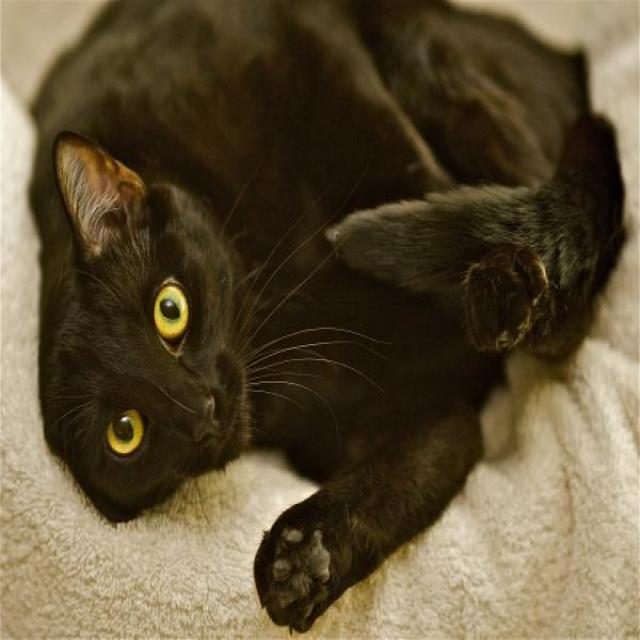Bombay: (46, 129, 248, 500)
